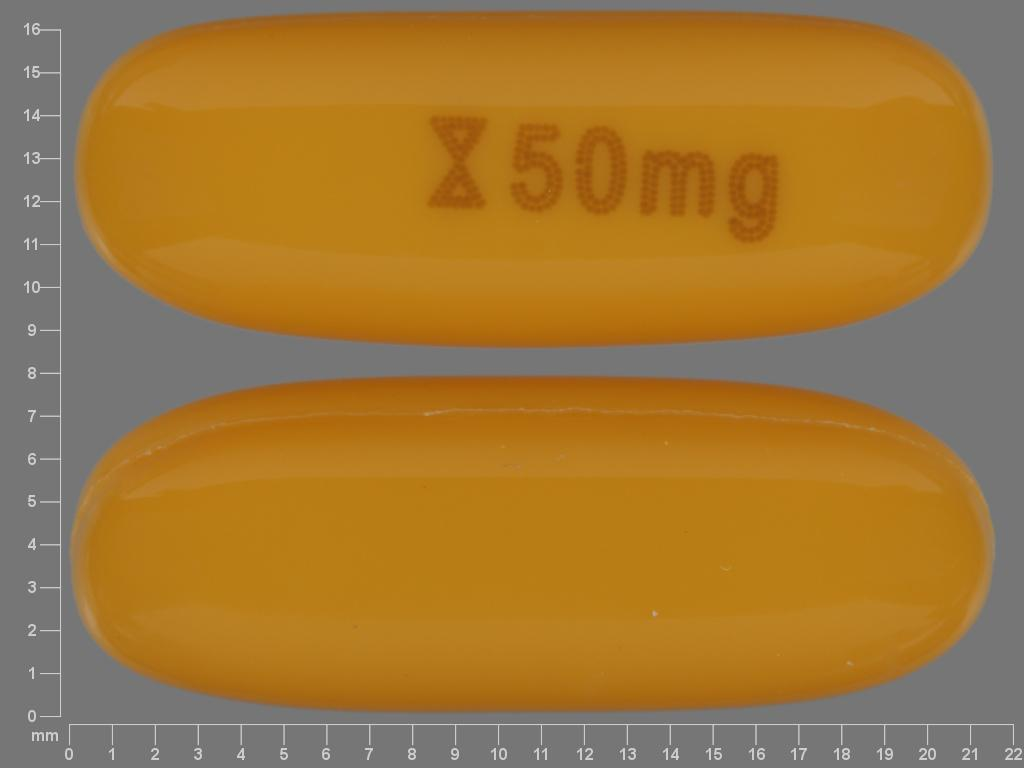Pill: (66, 365, 1003, 718), (68, 5, 1001, 354)
